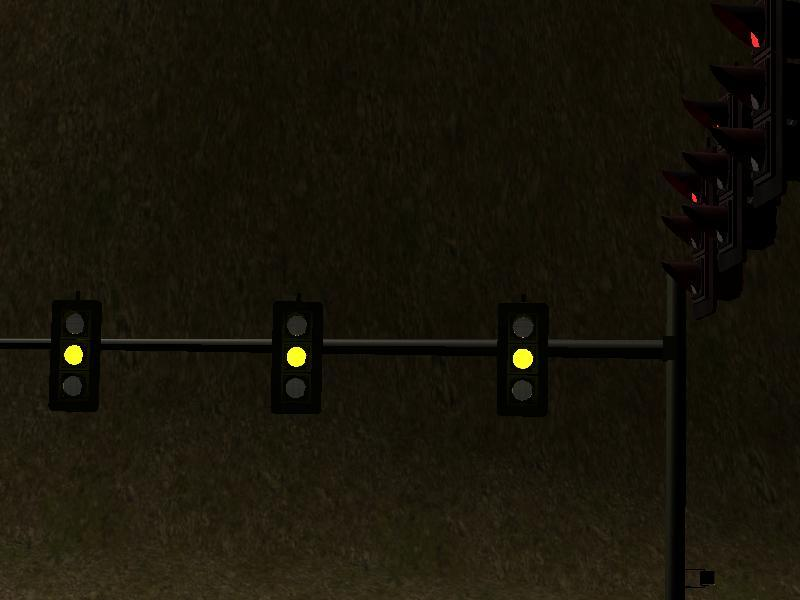Yellow: (48, 298, 101, 413), (270, 301, 323, 415), (497, 302, 549, 416)
